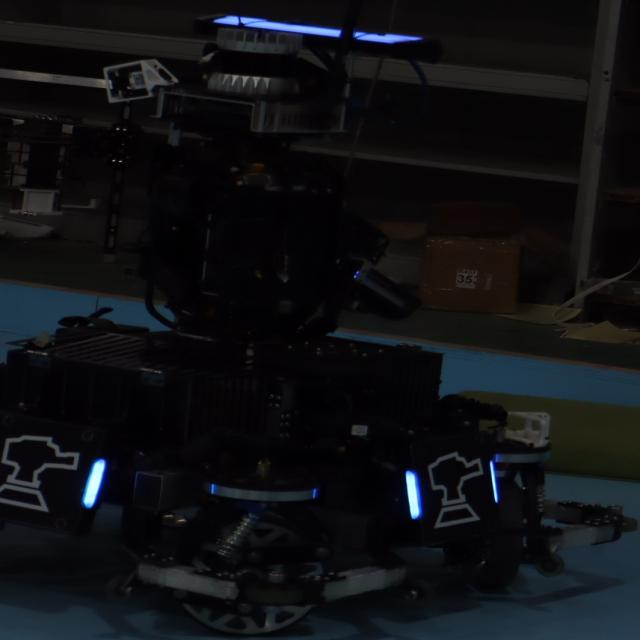Bs: (1, 423, 111, 523), (401, 445, 502, 529)
